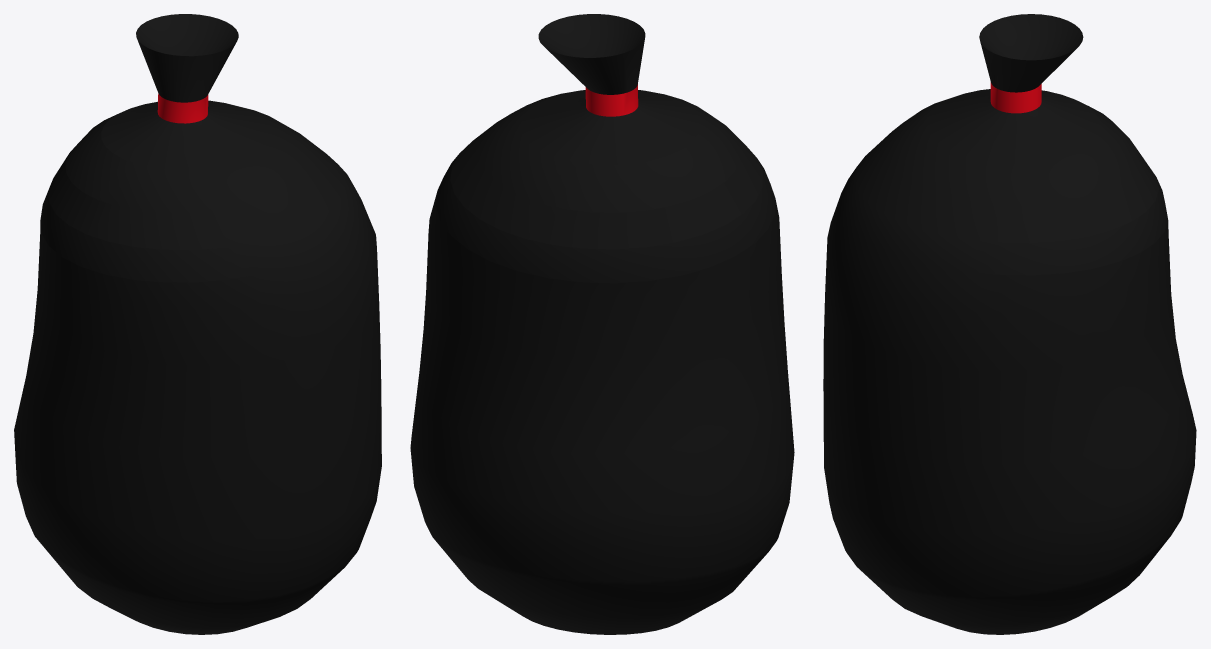
File: TrashBagBig.fbx
The picture shows the model from 3 angles, left to right: view 1: azimuth 30°, elevation 25°; view 2: azimuth 150°, elevation 25°; view 3: azimuth 270°, elevation 25°; orthographic projection. The views are drawn at different scales.
Visible parts, largest first — view 1: trashbag big; view 2: trashbag big; view 3: trashbag big.
Boxes of the visible parts, x1,y1,x2,y2 form: trashbag big: (14, 14, 381, 634); trashbag big: (410, 14, 794, 634); trashbag big: (823, 14, 1196, 634).
Size of the model in its own units: 202 by 343 by 201.
